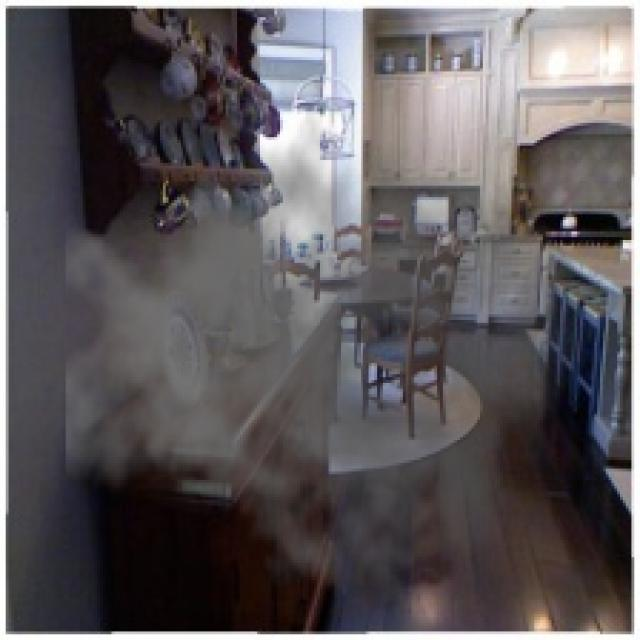smoke: (66, 86, 583, 608)
